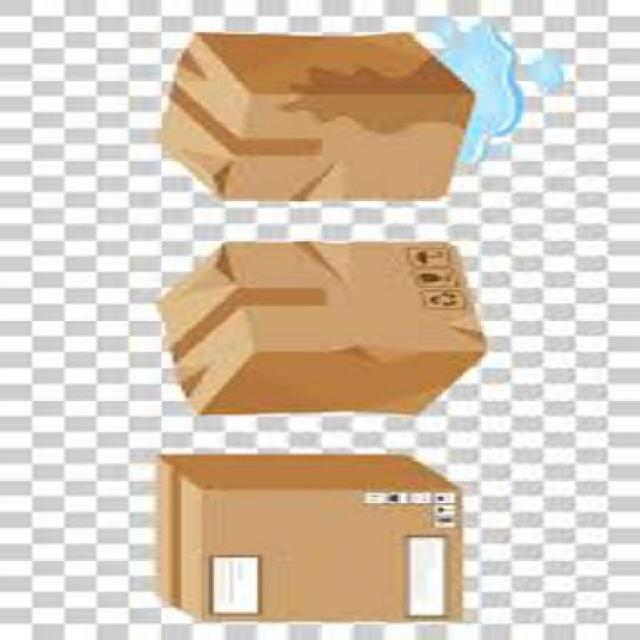Kardus kondisi bagus: (159, 453, 464, 624)
Kardus kondisi rusak: (163, 18, 568, 201), (160, 243, 490, 421)
